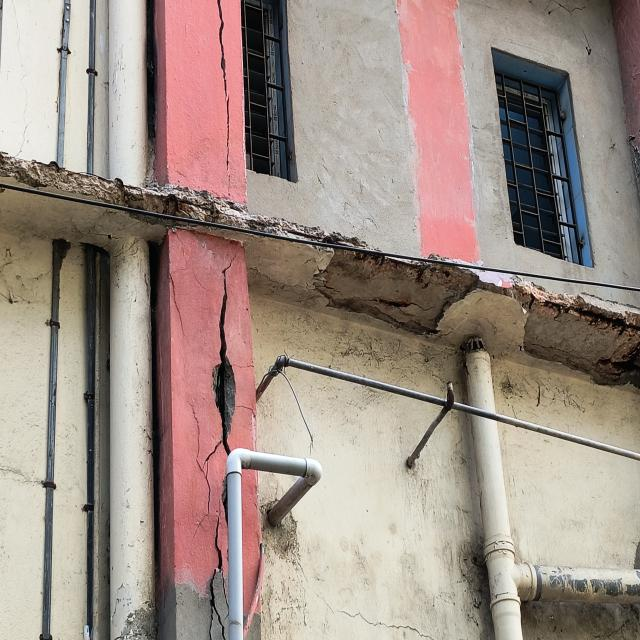crack: (212, 280, 235, 455), (217, 0, 230, 196)
spalling: (309, 250, 640, 388), (0, 152, 369, 249)
